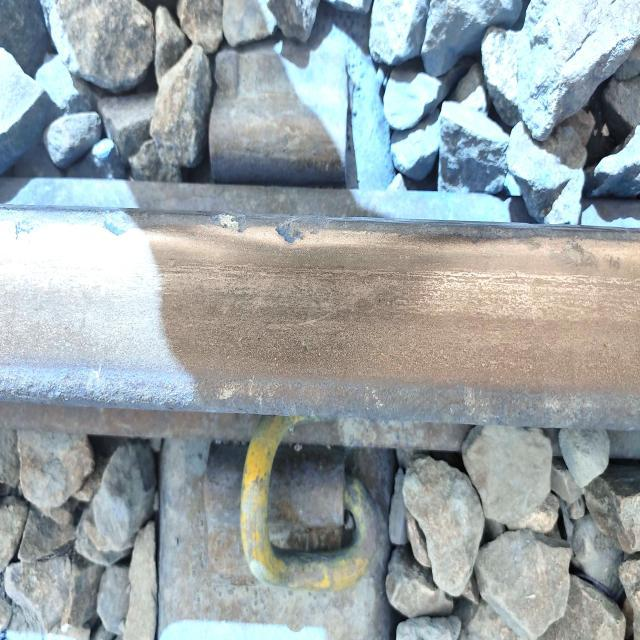Good Fasteners: (204, 416, 380, 591)
Missing Fastener: (209, 15, 358, 185)
